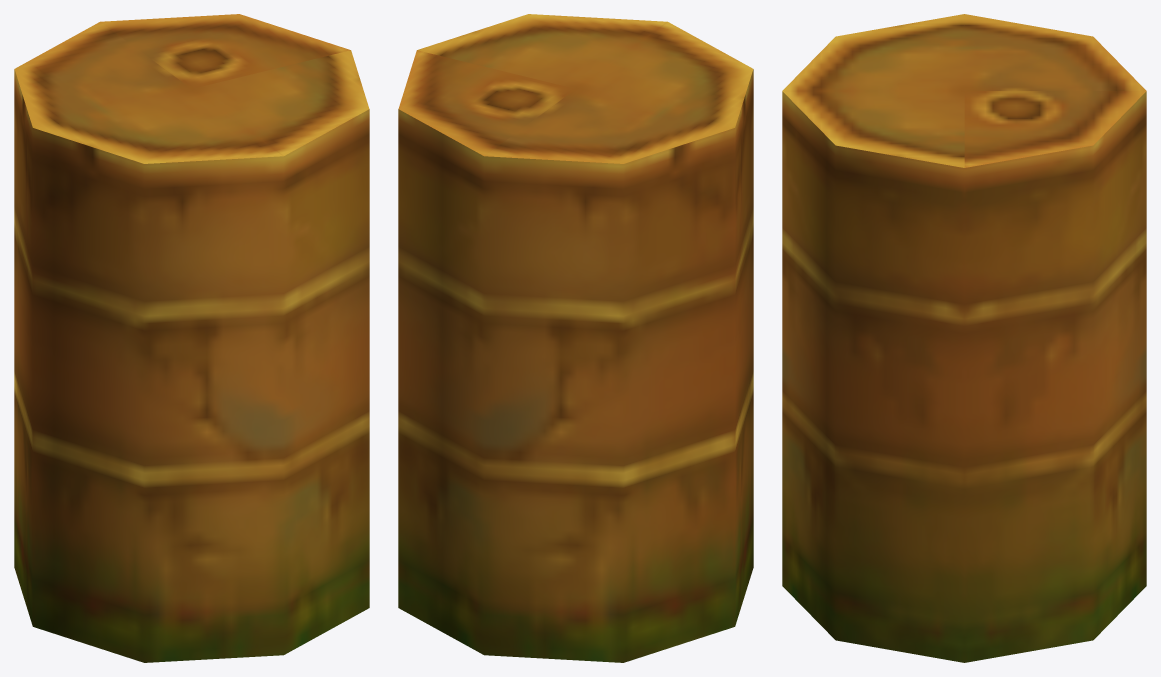
File: Map01_Tong_001.fbx
3 views of the same model, side by side, from view 1: azimuth 30°, elevation 25°; view 2: azimuth 150°, elevation 25°; view 3: azimuth 270°, elevation 25° (orthographic).
Parts seen in each view (by area): view 1: Map01_Tong_001; view 2: Map01_Tong_001; view 3: Map01_Tong_001.
Part boxes in pixels (x1,y1,x2,y2): Map01_Tong_001: (14,14,369,662); Map01_Tong_001: (398,14,753,662); Map01_Tong_001: (782,14,1146,662).
Bounding box in the file's own units: 130 × 194 × 130.
